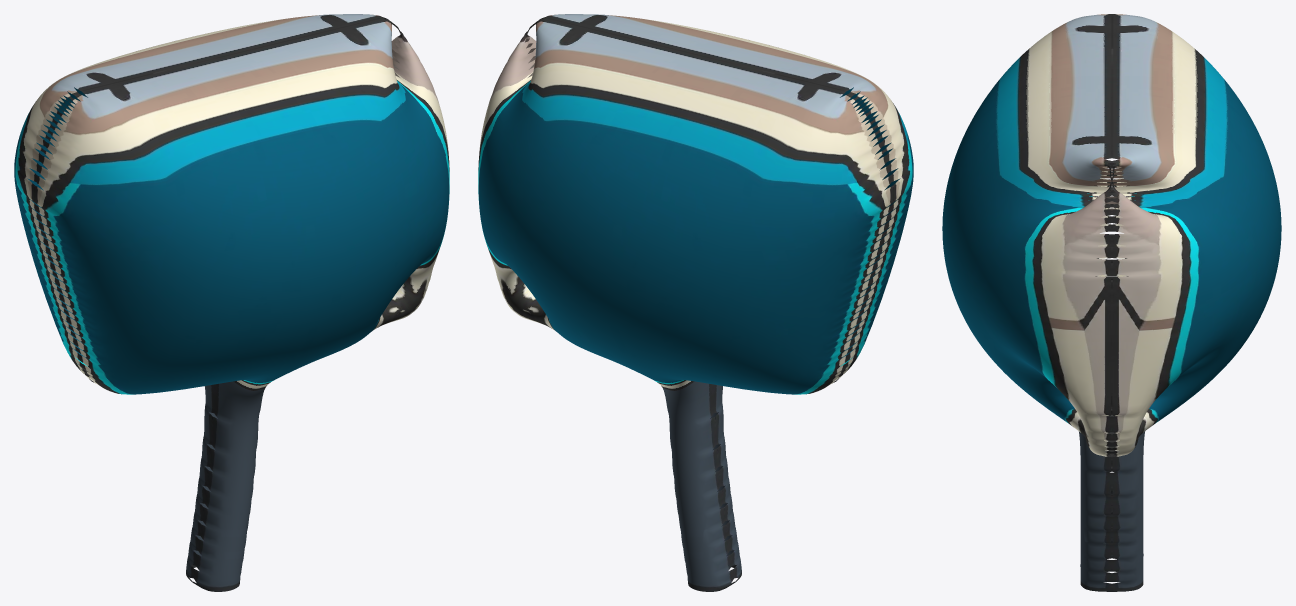
The model's file is wall_terminal.glb.
3 views of the same model, side by side, from view 1: azimuth 30°, elevation 25°; view 2: azimuth 150°, elevation 25°; view 3: azimuth 270°, elevation 25° (orthographic). The views are drawn at different scales.
Parts seen in each view (by area): view 1: wall_terminal; view 2: wall_terminal; view 3: wall_terminal.
Boxes of the visible parts, x1,y1,x2,y2 form: wall_terminal: (14,14,449,591); wall_terminal: (478,14,913,591); wall_terminal: (942,14,1281,591).
Size of the model in its own units: 0.986 by 1.25 by 0.7599.
1 material, 1 textured.
